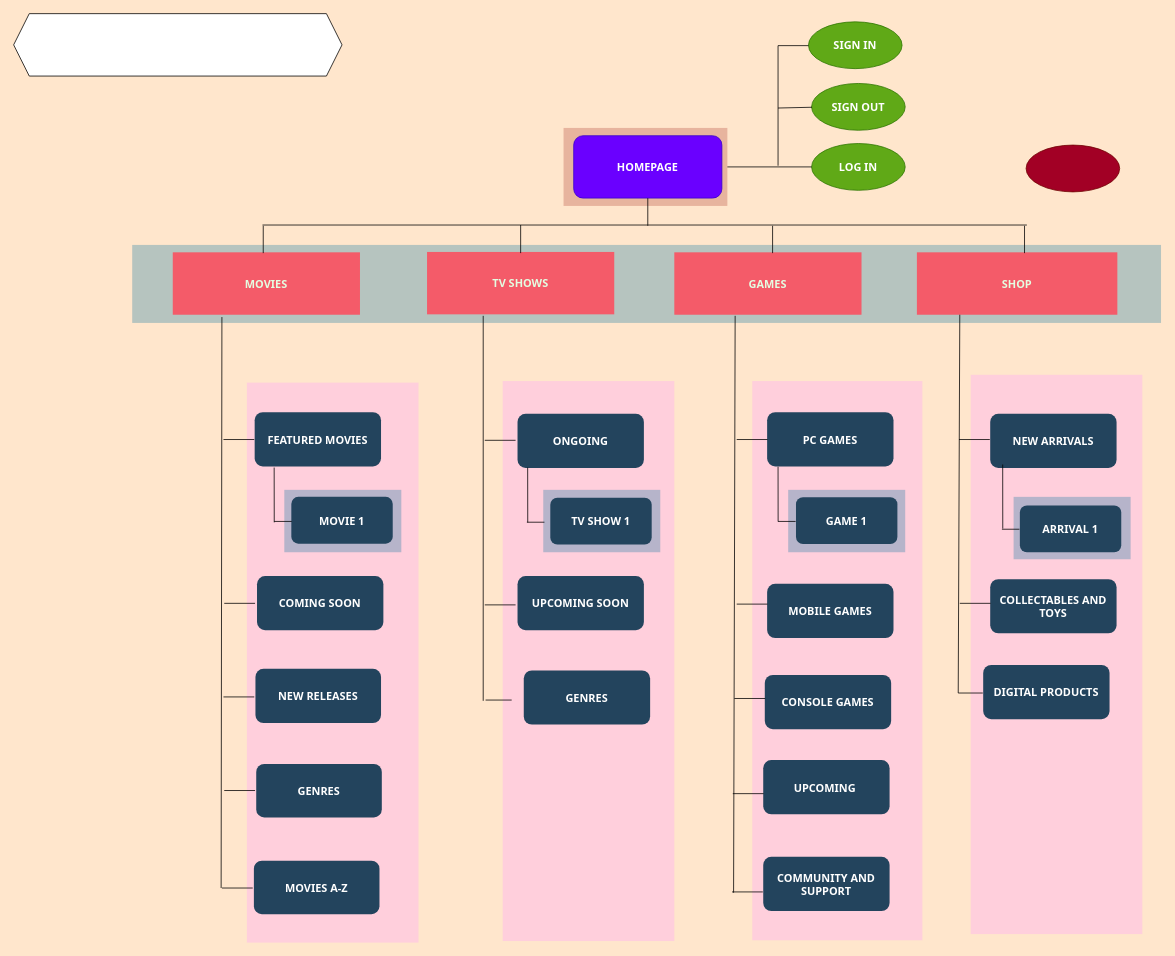
Image size: 1175x956. Some labels were removed from this diagram. The box of each missing label's shape, as (x1, y1, x2, y2) in pixels:
SEARCH: (1025, 144, 1120, 192)
WARNER BROS: (13, 13, 342, 76)
